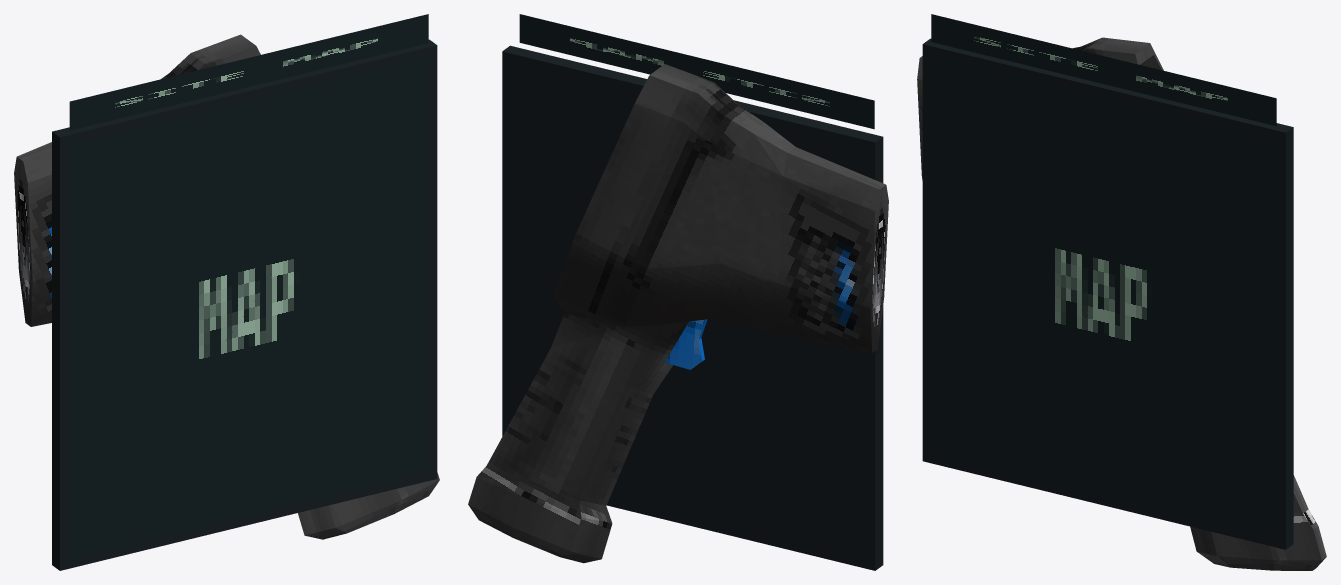
File: blender_site_map_3.glb
3 renders of one model, left to right at view 1: azimuth 30°, elevation 25°; view 2: azimuth 150°, elevation 25°; view 3: azimuth 330°, elevation 25°, orthographic. The views are drawn at different scales.
Parts seen in each view (by area): view 1: blender_site_map_3; view 2: blender_site_map_3; view 3: blender_site_map_3.
Boxes of the visible parts, bbox=[...] form: blender_site_map_3: bbox=[14, 14, 439, 570]; blender_site_map_3: bbox=[468, 14, 888, 570]; blender_site_map_3: bbox=[917, 14, 1326, 570].
Size of the model in its own units: 0.27 by 0.3214 by 0.0355.
Materials: 1 (1 with a texture image).
